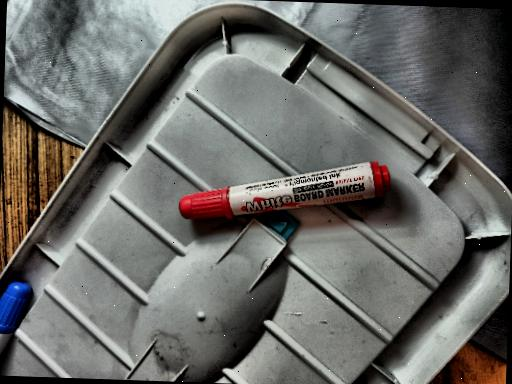marcador rojo: (179, 161, 390, 219)
